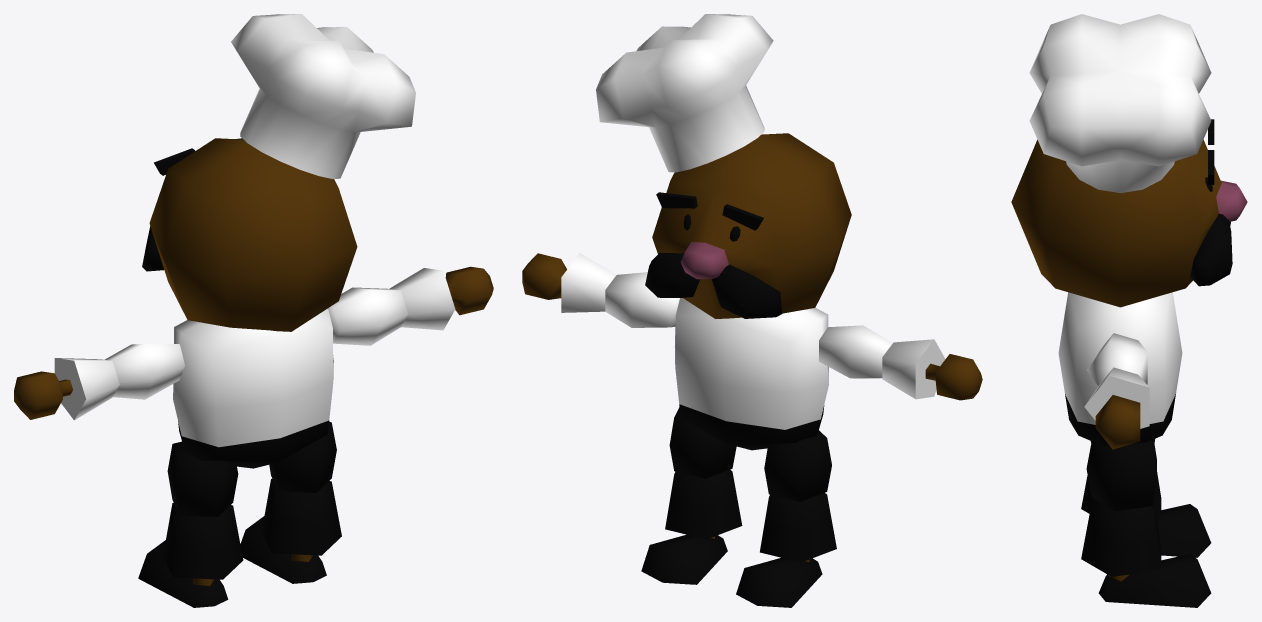
Rendered from cheffy.glb.
The picture shows the model from 3 angles, left to right: view 1: azimuth 30°, elevation 25°; view 2: azimuth 150°, elevation 25°; view 3: azimuth 270°, elevation 25°; orthographic projection. The views are drawn at different scales.
Parts seen in each view (by area): view 1: eyebrow; view 2: eyebrow; view 3: eyebrow.
Boxes of the visible parts, x1=… form: eyebrow: x1=14, y1=14, x2=493, y2=607; eyebrow: x1=522, y1=14, x2=982, y2=607; eyebrow: x1=1011, y1=14, x2=1247, y2=607.
Size of the model in its own units: 2.22 by 2.47 by 0.9296.
Materials: 1 (1 with a texture image).
